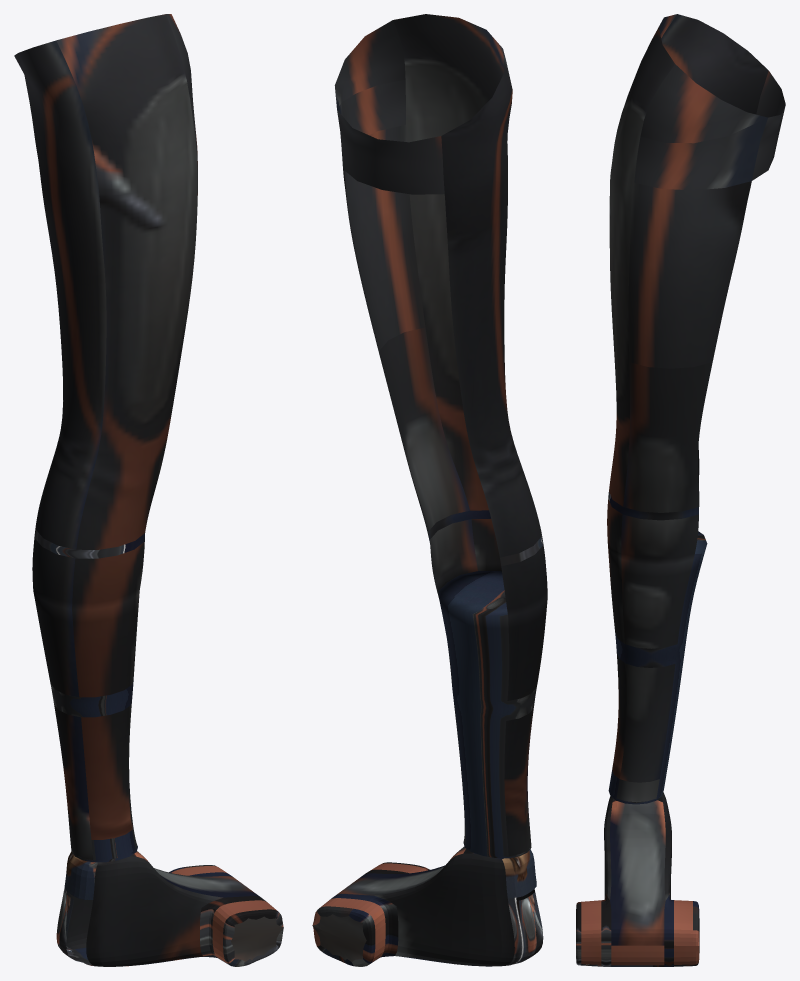
File: RobinPiernaIzquierda.obj
3 renders of one model, left to right at view 1: azimuth 30°, elevation 25°; view 2: azimuth 150°, elevation 25°; view 3: azimuth 270°, elevation 25°, orthographic. The views are drawn at different scales.
Visible parts, largest first — view 1: PiernaDerecha_Cube.002, PieDerecho_Cube.007; view 2: PiernaDerecha_Cube.002, PieDerecho_Cube.007; view 3: PiernaDerecha_Cube.002, PieDerecho_Cube.007.
Boxes of the visible parts, x1,y1,x2,y2 form: PiernaDerecha_Cube.002: [14, 14, 197, 862]; PieDerecho_Cube.007: [56, 851, 283, 966]; PiernaDerecha_Cube.002: [334, 14, 547, 858]; PieDerecho_Cube.007: [312, 846, 543, 966]; PiernaDerecha_Cube.002: [607, 14, 785, 804]; PieDerecho_Cube.007: [576, 792, 699, 966].
Size of the model in its own units: 0.6356 by 2.82 by 0.6018.
